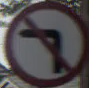Don't turn left: (8, 9, 82, 82)
